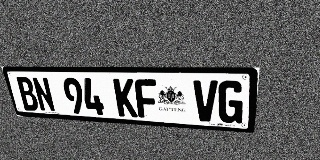4: (80, 78, 105, 115)
9: (61, 77, 87, 114)
B: (15, 77, 40, 111)
F: (134, 79, 159, 119)
G: (218, 80, 245, 124)
K: (113, 78, 138, 117)
N: (31, 77, 56, 112)
V: (193, 80, 218, 122)
